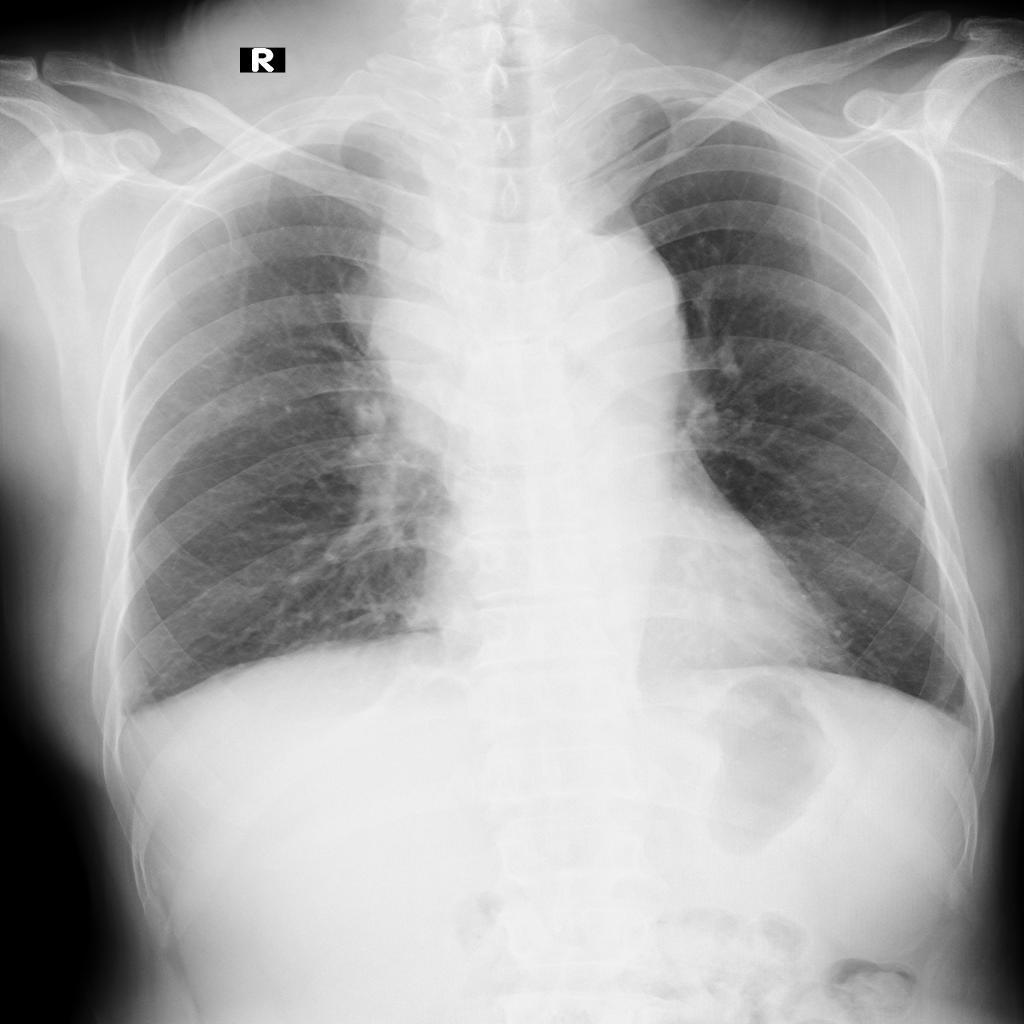Nodule: (370, 188, 690, 423)
